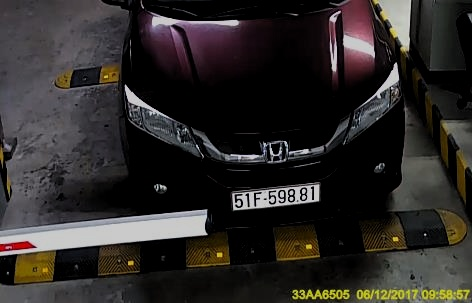plate: (230, 181, 322, 211)
